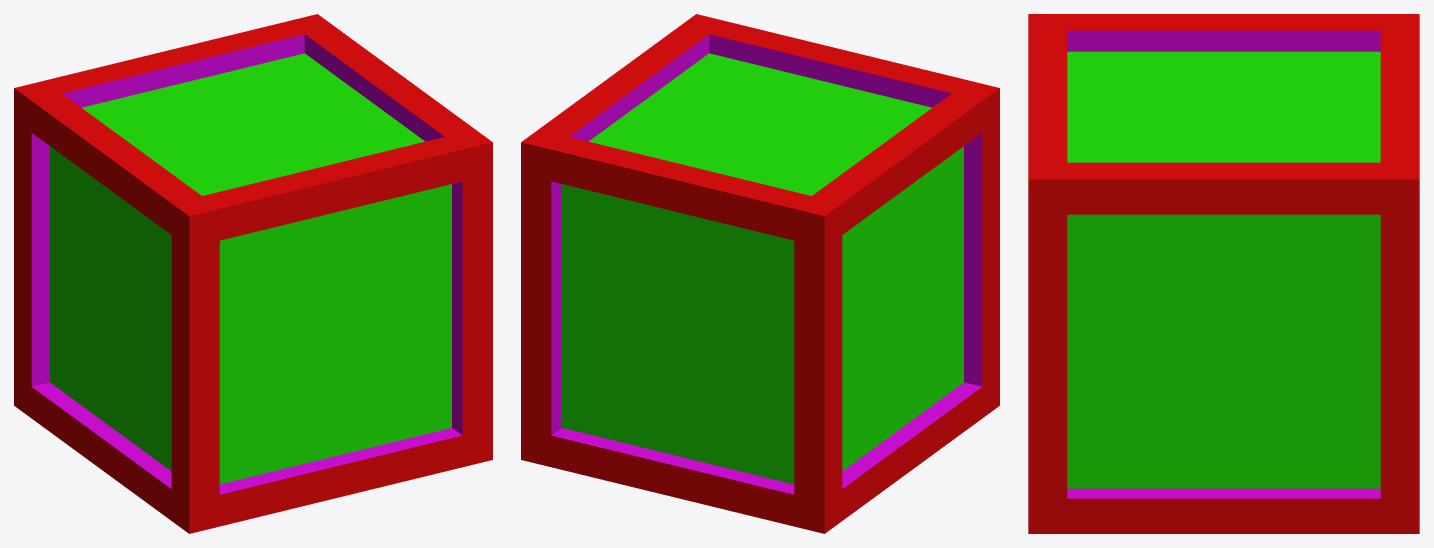
The model's file is Crate.fbx.
3 views of the same model, side by side, from view 1: azimuth 30°, elevation 25°; view 2: azimuth 150°, elevation 25°; view 3: azimuth 270°, elevation 25° (orthographic). The views are drawn at different scales.
Visible parts, largest first — view 1: Crate; view 2: Crate; view 3: Crate.
Boxes of the visible parts, x1,y1,x2,y2 form: Crate: [14, 14, 492, 533]; Crate: [521, 14, 999, 533]; Crate: [1028, 14, 1419, 533].
Size of the model in its own units: 50 by 50 by 50.
